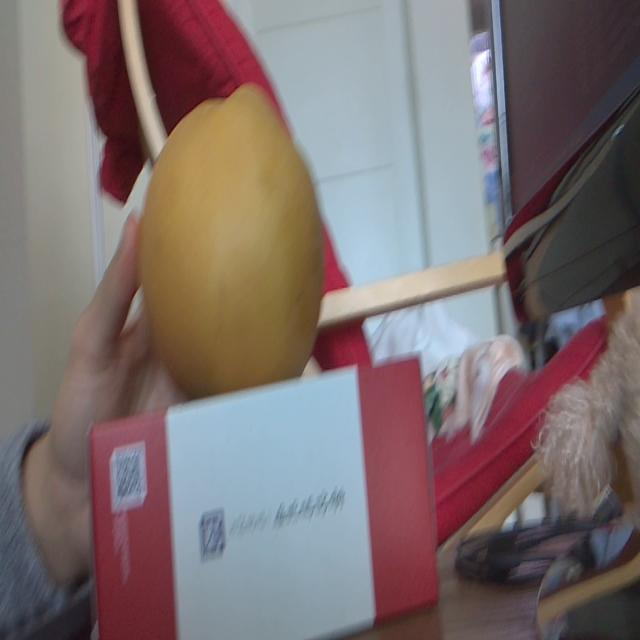pear: (139, 84, 324, 401)
